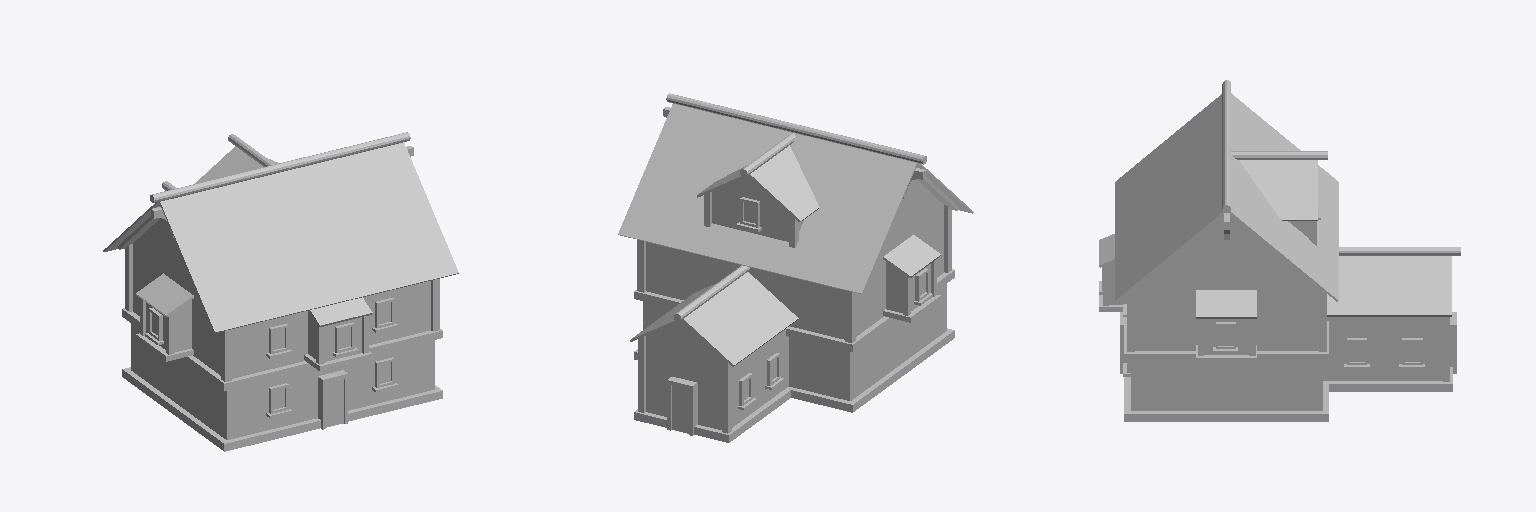
The model's file is House1.obj.
The picture shows the model from 3 angles: view 1: azimuth 30°, elevation 25°; view 2: azimuth 150°, elevation 25°; view 3: azimuth 270°, elevation 25°; orthographic projection.
Bounding box in the file's own units: 4.7 × 3.82 × 5.59.